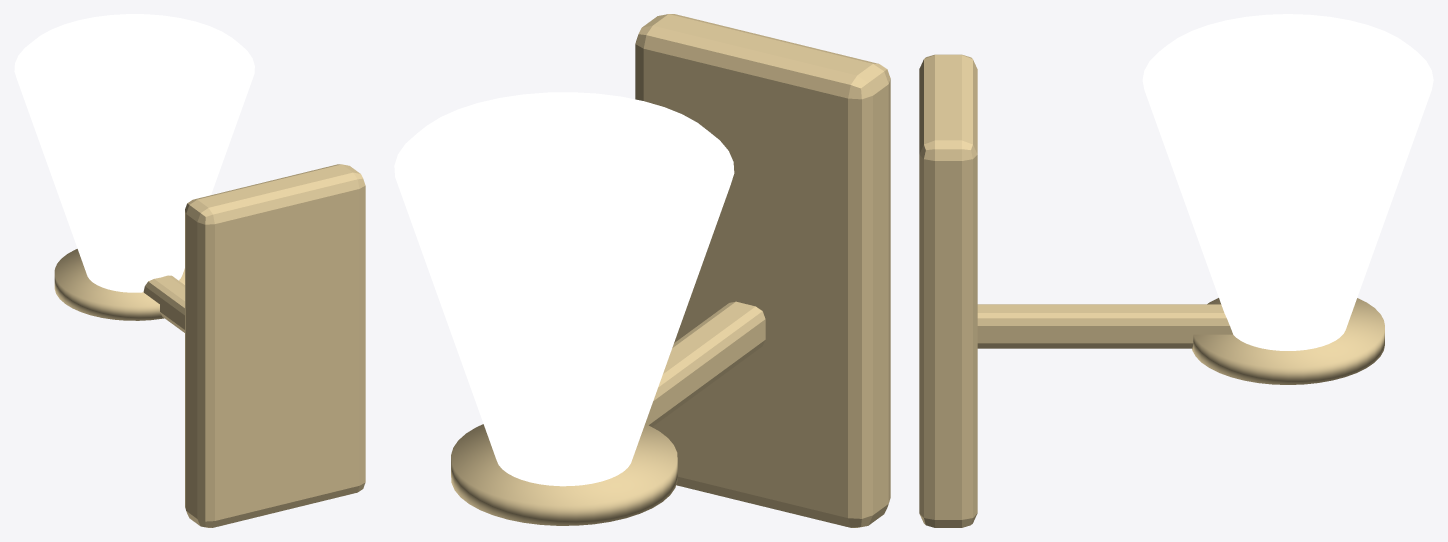
File: sconce.glb
3 renders of one model, left to right at view 1: azimuth 30°, elevation 25°; view 2: azimuth 150°, elevation 25°; view 3: azimuth 270°, elevation 25°, orthographic. The views are drawn at different scales.
Visible parts, largest first — view 1: sconce; view 2: sconce; view 3: sconce.
Boxes of the visible parts, left/top/right/bottom form: sconce: left=14, top=14, right=365, bottom=527; sconce: left=394, top=14, right=890, bottom=527; sconce: left=919, top=14, right=1433, bottom=527.
Size of the model in its own units: 0.15 by 0.235 by 0.265.
